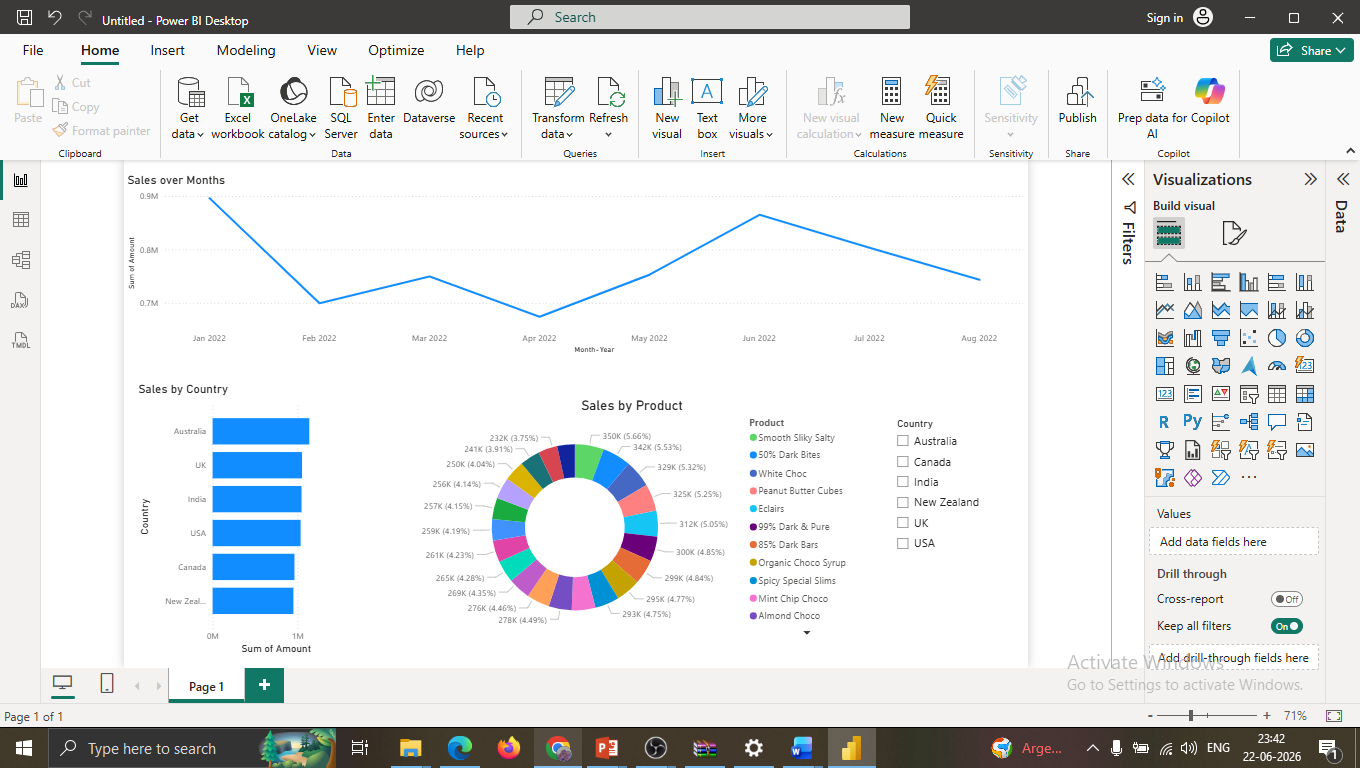

The page's visual inventory and layout, read from the dashboard file:
{"tool":"powerbi","page":{"name":"Page 1","canvas":[1280,720],"ordinal":0},"visuals":[{"type":"lineChart","title":"Sales over Months","fields":{"Y":["Sum(data.Amount)"],"Category":["data.Month-Year"]},"box":[0,18.4,1279.8,260.8],"z":0},{"type":"clusteredBarChart","title":"Sales by Country","fields":{"Category":["data.Country"],"Y":["Sum(data.Amount)"]},"box":[15.6,314.6,304.7,391.2],"z":1},{"type":"donutChart","title":"Sales by Product","fields":{"Category":["data.Product"],"Y":["Sum(data.Amount)"]},"box":[386.9,335.9,666.1,347.2],"z":2},{"type":"slicer","fields":{"Values":["data.Country"]},"box":[1082.8,360,148.8,232.4],"z":3}]}

Visuals, with their boxes on the page's 1280x720 design canvas (x1, y1, x2, y2). These are canvas units, not pixel positions in the 1360x768 screenshot, which may show the page scaled, cropped or inside an application window:
"Sales over Months" lineChart: crop(0, 18, 1280, 279)
"Sales by Country" clusteredBarChart: crop(16, 315, 320, 706)
"Sales by Product" donutChart: crop(387, 336, 1053, 683)
slicer - data.Country: crop(1083, 360, 1232, 592)
